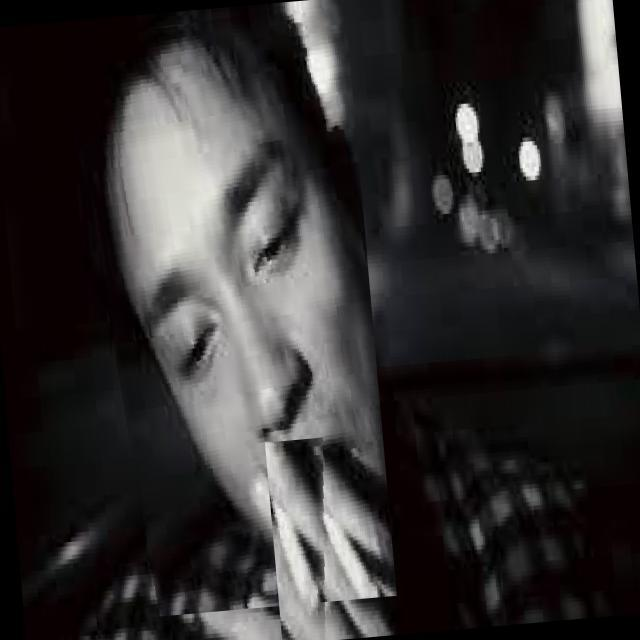cigarette: (266, 437, 341, 640)
